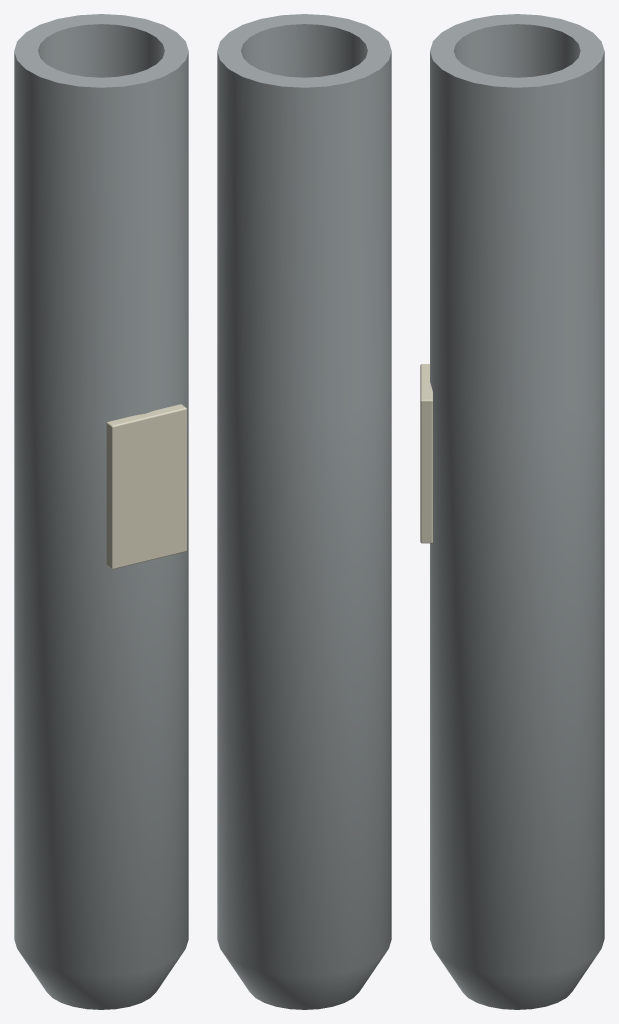
The model's file is prehistoric-expedition-sites-core-sample-tube-c8c022d5__26103.glb.
The picture shows the model from 3 angles, left to right: view 1: azimuth 30°, elevation 25°; view 2: azimuth 150°, elevation 25°; view 3: azimuth 270°, elevation 25°; orthographic projection.
Parts seen in each view (by area): view 1: core-sample-tube; view 2: core-sample-tube; view 3: core-sample-tube.
Part boxes in pixels (box(x1,y1,x2,y2)): core-sample-tube: box(14, 14, 188, 1009); core-sample-tube: box(217, 14, 391, 1009); core-sample-tube: box(420, 14, 604, 1009).
Bounding box in the file's own units: 0.11 × 0.65 × 0.116.
